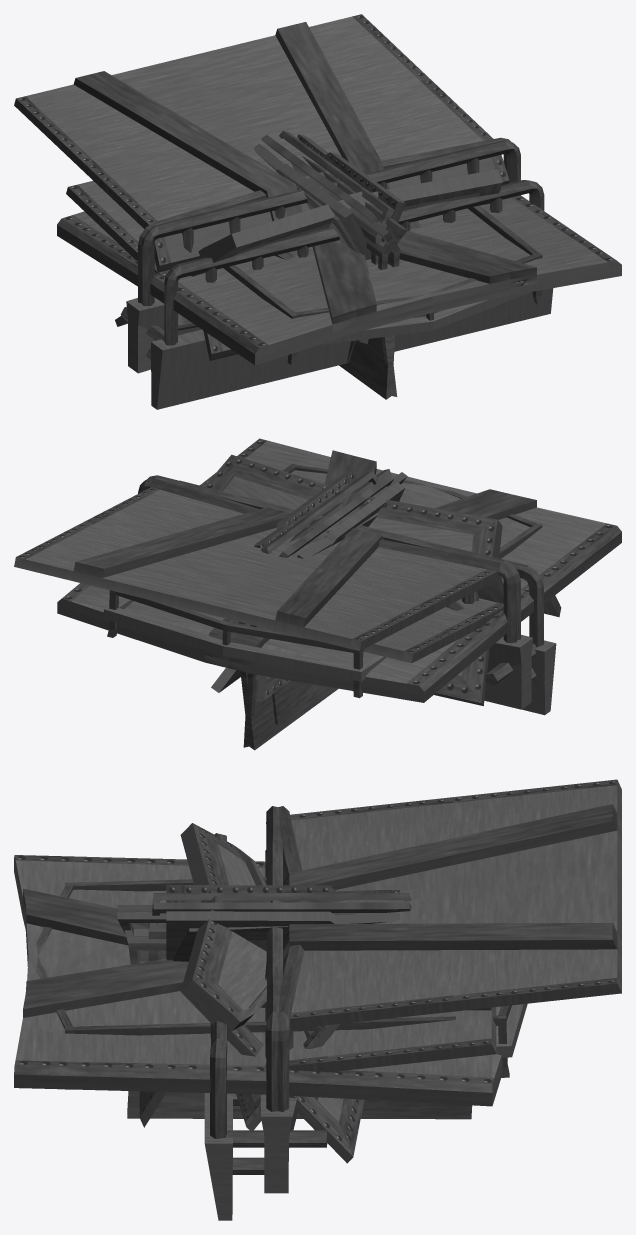
Rendered from Vehicles_CarNormal_Heavy_o.fbx.
3 renders of one model, top to bottom at view 1: azimuth 30°, elevation 25°; view 2: azimuth 150°, elevation 25°; view 3: azimuth 270°, elevation 25°, orthographic. The views are drawn at different scales.
Parts seen in each view (by area): view 1: normal_heavy_trunk_armor, normal_heavy_hood_armor, normal_heavy_rear_bullbar_armor, normal_heavy_windshield_armor, normal_heavy_roofrack, normal_heavy_trunk_without_bullbar_armor, normal_heavy_bullbar_armor, normal_heavy_front_right_door_armor, normal_heavy_rear_left_door_armor, normal_heavy_front_right_window_armor, normal_heavy_front_left_door_armor, normal_heavy_rear_right_door_armor (+2 smaller); view 2: normal_heavy_trunk_armor, normal_heavy_hood_armor, normal_heavy_windshield_armor, normal_heavy_roofrack, normal_heavy_bullbar_armor, normal_heavy_rear_bullbar_armor, normal_heavy_trunk_without_bullbar_armor, normal_heavy_rear_right_door_armor, normal_heavy_front_right_door_armor, normal_heavy_front_left_window_armor, normal_heavy_front_right_window_armor, normal_heavy_rear_left_door_armor (+2 smaller); view 3: normal_heavy_trunk_armor, normal_heavy_hood_armor, normal_heavy_windshield_armor, normal_heavy_trunk_without_bullbar_armor, normal_heavy_roofrack, normal_heavy_rear_bullbar_armor, normal_heavy_bullbar_armor, normal_heavy_front_left_door_armor, normal_heavy_rear_left_door_armor, normal_heavy_front_left_window_armor, normal_heavy_rear_right_door_armor, normal_heavy_rear_left_window_armor (+3 smaller).
Part boxes in pixels (left/top/right/bottom): normal_heavy_trunk_armor: left=14, top=14, right=553, bottom=409; normal_heavy_hood_armor: left=57, top=195, right=621, bottom=365; normal_heavy_rear_bullbar_armor: left=120, top=140, right=520, bottom=369; normal_heavy_windshield_armor: left=115, top=169, right=502, bottom=326; normal_heavy_roofrack: left=223, top=205, right=543, bottom=364; normal_heavy_trunk_without_bullbar_armor: left=66, top=181, right=420, bottom=360; normal_heavy_bullbar_armor: left=126, top=137, right=510, bottom=373; normal_heavy_front_right_door_armor: left=291, top=163, right=400, bottom=399; normal_heavy_rear_left_door_armor: left=279, top=131, right=394, bottom=264; normal_heavy_front_right_window_armor: left=276, top=163, right=370, bottom=260; normal_heavy_front_left_door_armor: left=301, top=155, right=407, bottom=396; normal_heavy_rear_right_door_armor: left=261, top=135, right=385, bottom=363; normal_heavy_trunk_armor: left=14, top=480, right=556, bottom=715; normal_heavy_hood_armor: left=57, top=438, right=621, bottom=702; normal_heavy_windshield_armor: left=204, top=454, right=502, bottom=705; normal_heavy_roofrack: left=103, top=463, right=542, bottom=698; normal_heavy_bullbar_armor: left=138, top=478, right=536, bottom=705; normal_heavy_rear_bullbar_armor: left=147, top=475, right=532, bottom=709; normal_heavy_trunk_without_bullbar_armor: left=364, top=595, right=561, bottom=663; normal_heavy_rear_right_door_armor: left=272, top=474, right=393, bottom=725; normal_heavy_front_right_door_armor: left=238, top=472, right=407, bottom=750; normal_heavy_front_left_window_armor: left=256, top=471, right=358, bottom=702; normal_heavy_front_right_window_armor: left=211, top=482, right=405, bottom=692; normal_heavy_rear_left_door_armor: left=261, top=470, right=378, bottom=553; normal_heavy_trunk_armor: left=204, top=779, right=621, bottom=1220; normal_heavy_hood_armor: left=14, top=855, right=502, bottom=1106; normal_heavy_windshield_armor: left=180, top=823, right=363, bottom=1163; normal_heavy_trunk_without_bullbar_armor: left=139, top=864, right=496, bottom=1127; normal_heavy_roofrack: left=36, top=877, right=527, bottom=1089; normal_heavy_rear_bullbar_armor: left=260, top=806, right=327, bottom=1193; normal_heavy_bullbar_armor: left=227, top=806, right=307, bottom=1193; normal_heavy_front_left_door_armor: left=117, top=912, right=472, bottom=1119; normal_heavy_rear_left_door_armor: left=148, top=902, right=419, bottom=1108; normal_heavy_front_left_window_armor: left=166, top=911, right=336, bottom=960; normal_heavy_rear_right_door_armor: left=148, top=893, right=411, bottom=961; normal_heavy_rear_left_window_armor: left=173, top=913, right=399, bottom=961.
Size of the model in its own units: 0.8737 by 0.4283 by 0.9671.
